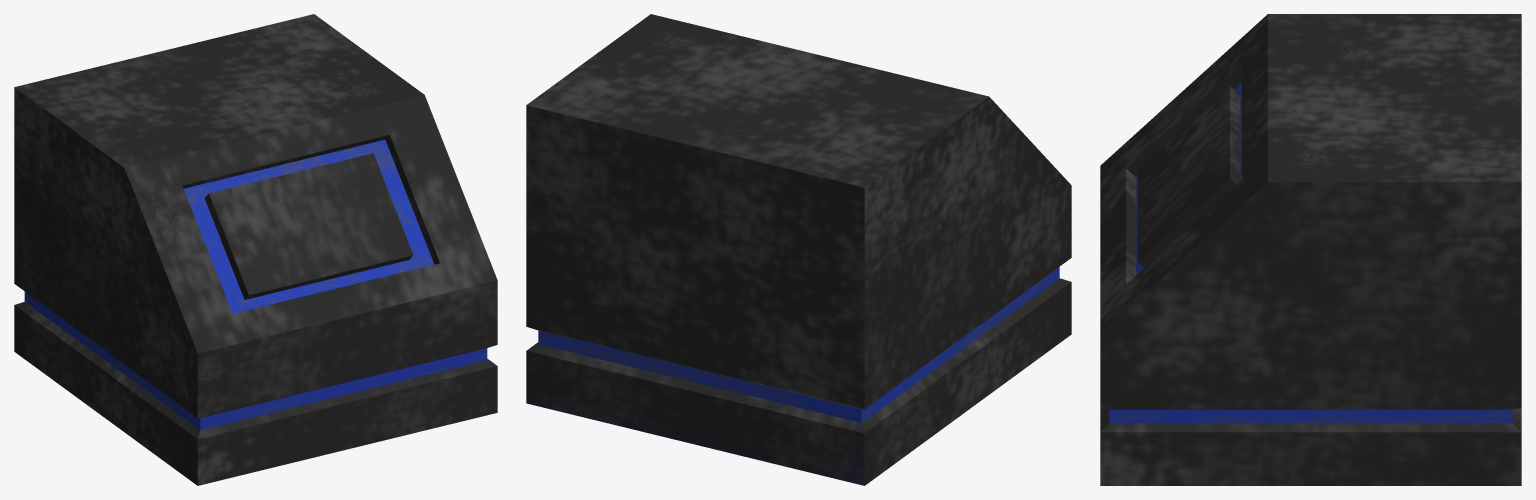
The model's file is Container_Asset.fbx.
3 renders of one model, left to right at view 1: azimuth 30°, elevation 25°; view 2: azimuth 150°, elevation 25°; view 3: azimuth 270°, elevation 25°, orthographic. The views are drawn at different scales.
Parts seen in each view (by area): view 1: Container_Asset; view 2: Container_Asset; view 3: Container_Asset.
Part boxes in pixels (left/top/right/bottom): Container_Asset: left=14, top=14, right=497, bottom=485; Container_Asset: left=526, top=14, right=1071, bottom=485; Container_Asset: left=1100, top=14, right=1521, bottom=485.
Size of the model in its own units: 9.95 by 8.38 by 10.54.
